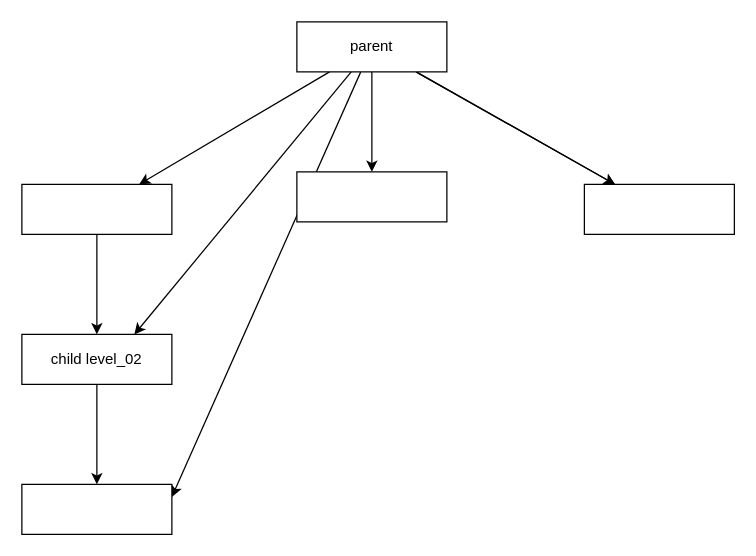
This 756x556 diagram has some shape labels left out. Each missing label, with the centre of its shape:
"child level -01" belongs at (x=96, y=208).
"child level_03" belongs at (x=96, y=508).
